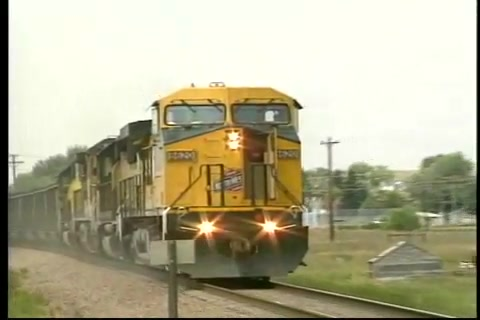train: (11, 83, 312, 286)
